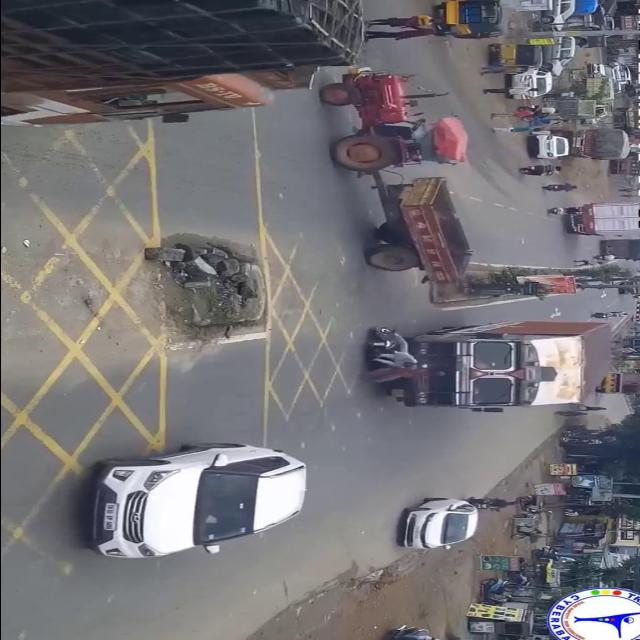accident: (354, 316, 621, 418)
non_accident: (480, 36, 588, 104), (521, 125, 635, 163)
